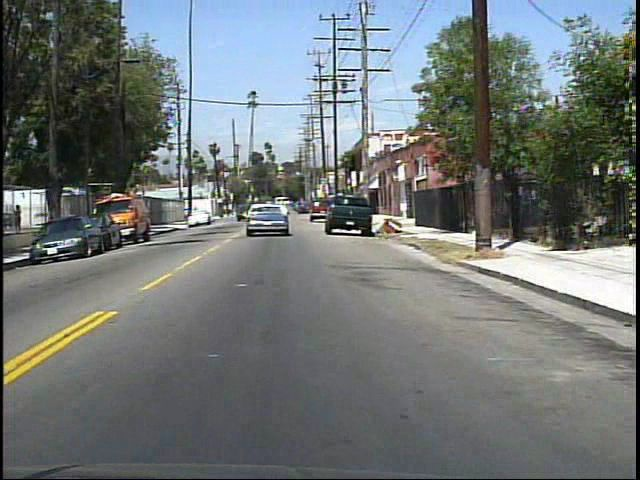person: (15, 203, 25, 235)
